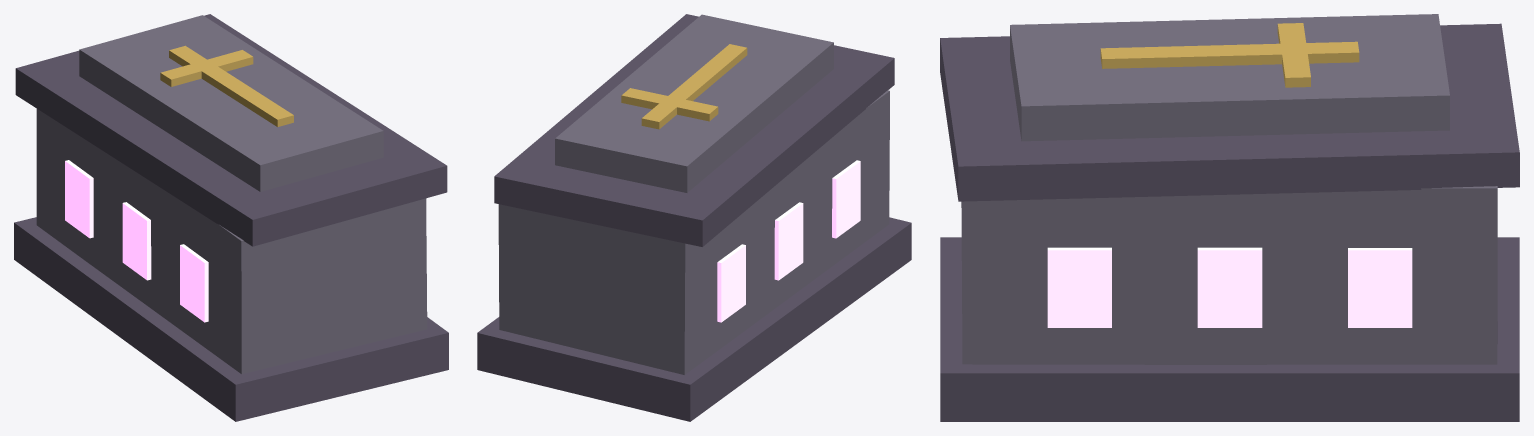
File: sarcophagus.glb
The picture shows the model from 3 angles, left to right: view 1: azimuth 30°, elevation 25°; view 2: azimuth 150°, elevation 25°; view 3: azimuth 270°, elevation 25°; orthographic projection. The views are drawn at different scales.
Parts seen in each view (by area): view 1: sarcophagus; view 2: sarcophagus; view 3: sarcophagus.
Part boxes in pixels (x1,y1,x2,y2): sarcophagus: (14, 14, 448, 421); sarcophagus: (477, 14, 911, 421); sarcophagus: (940, 14, 1519, 421).
Size of the model in its own units: 1.57 by 1.56 by 2.7.
